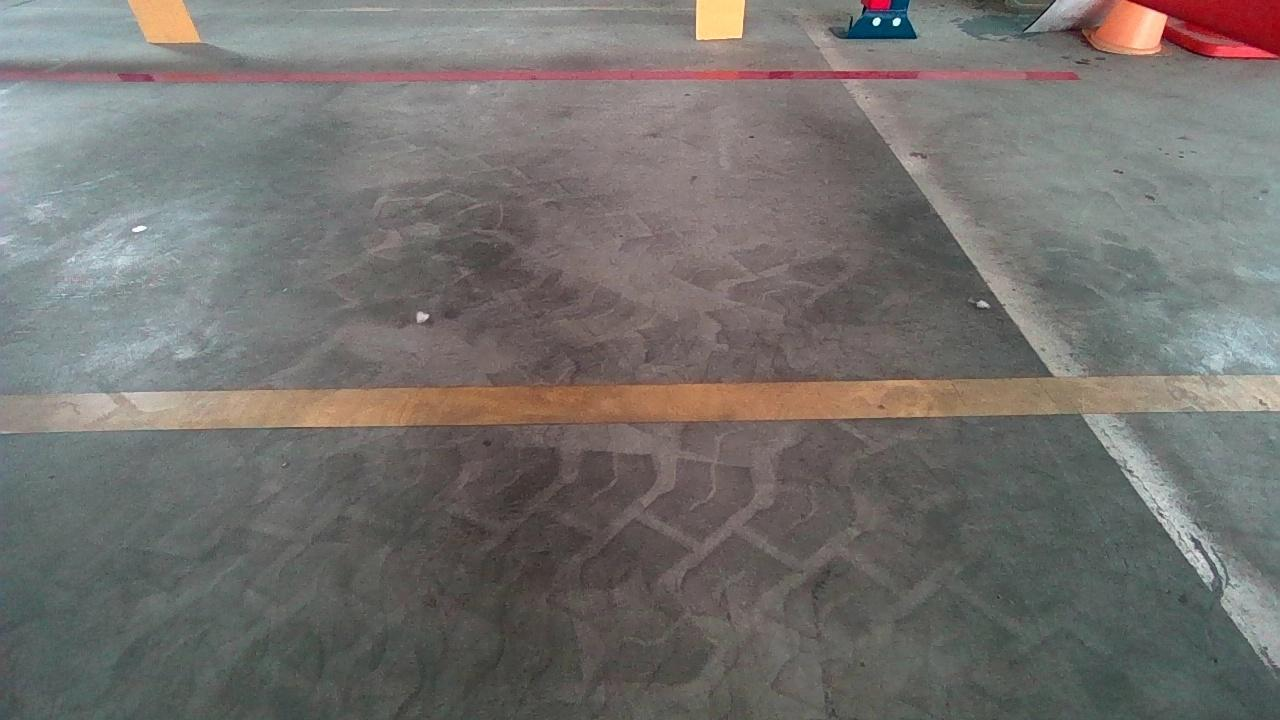red_line: (0, 69, 1081, 81)
yellow_line: (3, 370, 1280, 432)
